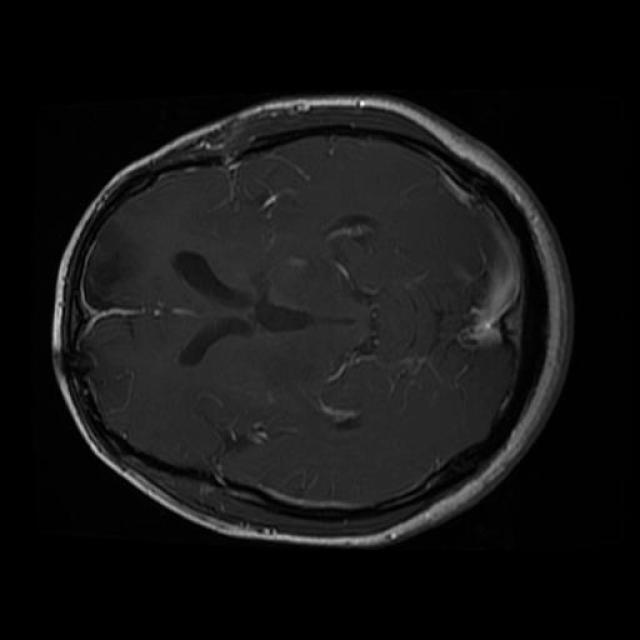Glioma: (463, 199, 519, 345), (68, 308, 133, 424), (81, 216, 126, 309)
